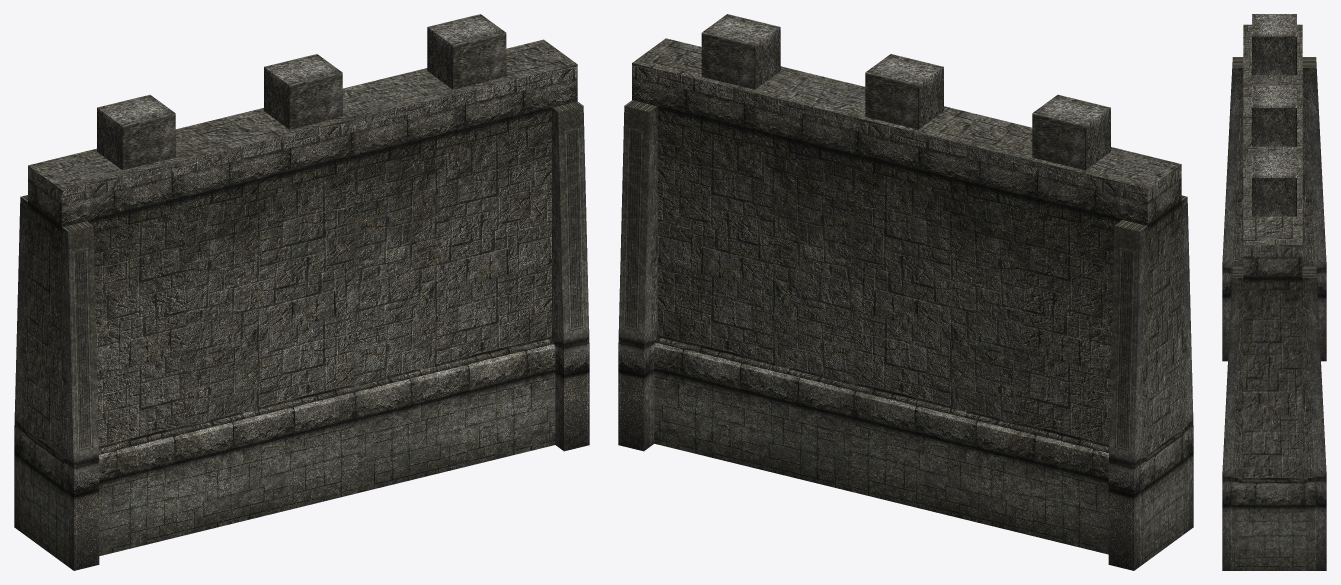
File: ep-bigdam-02.fbx
The picture shows the model from 3 angles, left to right: view 1: azimuth 30°, elevation 25°; view 2: azimuth 150°, elevation 25°; view 3: azimuth 270°, elevation 25°; orthographic projection. The views are drawn at different scales.
Visible parts, largest first — view 1: ep-bigdam-02; view 2: ep-bigdam-02; view 3: ep-bigdam-02.
Part boxes in pixels (x1,y1,x2,y2): ep-bigdam-02: (14,14,589,570); ep-bigdam-02: (618,14,1193,570); ep-bigdam-02: (1222,14,1326,570).
Size of the model in its own units: 10 by 7.71 by 2.
